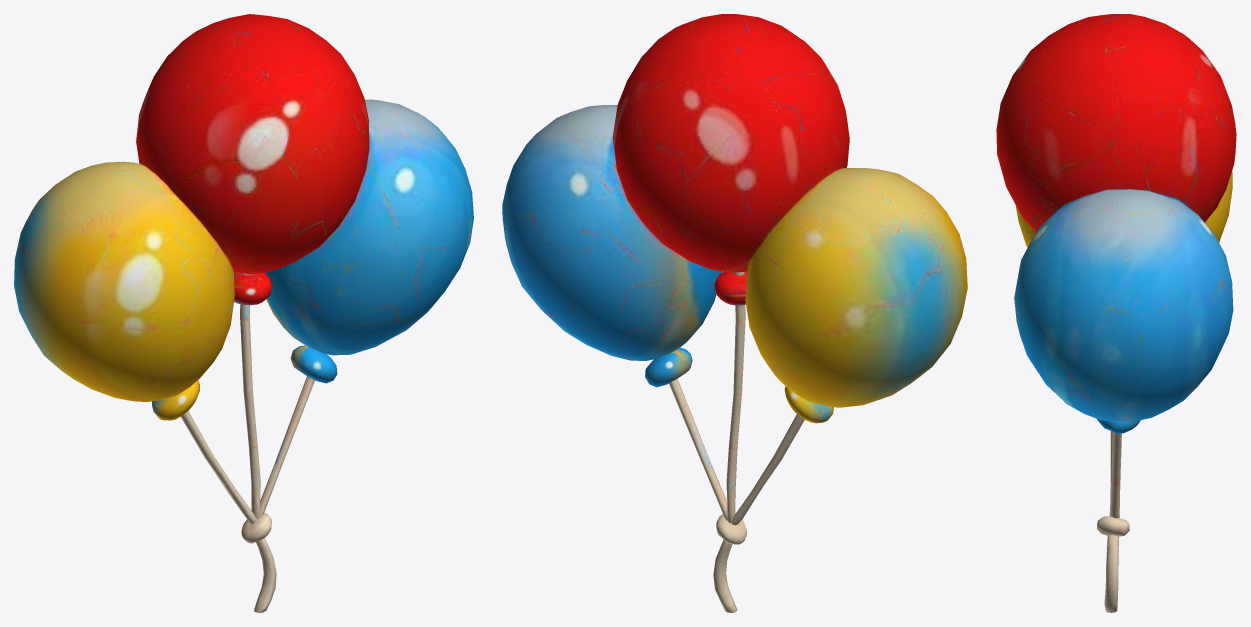
The model's file is balloon.glb.
3 views of the same model, side by side, from view 1: azimuth 30°, elevation 25°; view 2: azimuth 150°, elevation 25°; view 3: azimuth 270°, elevation 25° (orthographic).
Bounding box in the file's own units: 0.7781 × 1 × 0.3724.
1 material, 1 textured.
